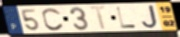3: (69, 6, 90, 32)
5: (19, 8, 42, 31)
C: (41, 7, 66, 32)
J: (141, 5, 160, 30)
L: (116, 7, 139, 30)
T: (88, 5, 110, 31)
